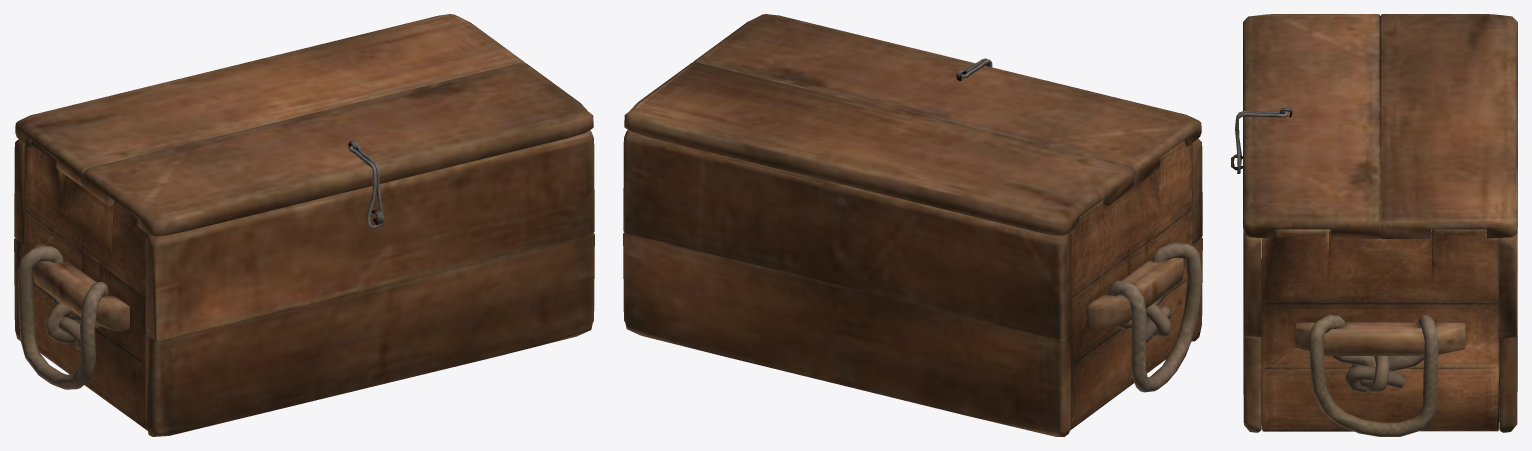
Rendered from crate.glb.
The picture shows the model from 3 angles, left to right: view 1: azimuth 30°, elevation 25°; view 2: azimuth 150°, elevation 25°; view 3: azimuth 270°, elevation 25°; orthographic projection. The views are drawn at different scales.
Visible parts, largest first — view 1: wooden_crate_01, wooden_crate_01_lid, wooden_crate_01_latch; view 2: wooden_crate_01, wooden_crate_01_lid; view 3: wooden_crate_01_lid, wooden_crate_01, wooden_crate_01_latch.
Boxes of the visible parts, left/top/right/bottom form: wooden_crate_01: left=14, top=130, right=594, bottom=436; wooden_crate_01_lid: left=15, top=14, right=593, bottom=236; wooden_crate_01_latch: left=349, top=145, right=384, bottom=228; wooden_crate_01: left=623, top=130, right=1202, bottom=436; wooden_crate_01_lid: left=624, top=14, right=1201, bottom=235; wooden_crate_01_lid: left=1243, top=14, right=1517, bottom=239; wooden_crate_01: left=1231, top=154, right=1517, bottom=436; wooden_crate_01_latch: left=1235, top=111, right=1287, bottom=173.
Bounding box in the file's own units: 0.8245 × 0.349 × 0.4088.
Materials: 1 (1 with a texture image).
